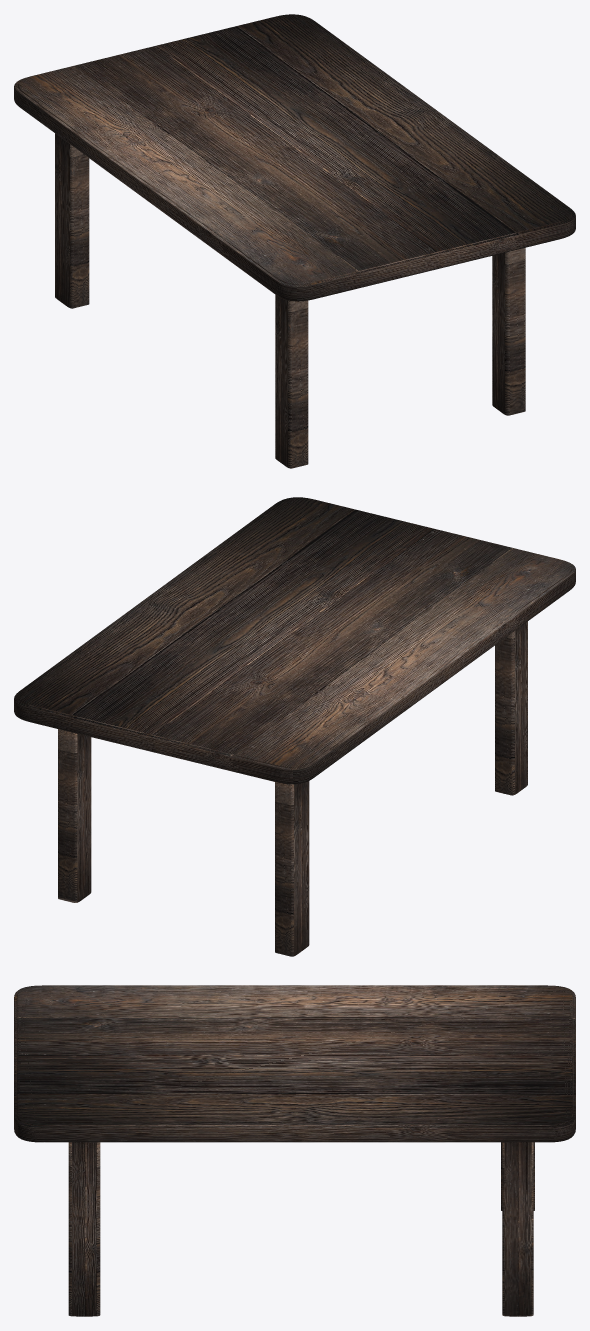
Rendered from smallTabletx.dae.
3 views of the same model, one above another, from view 1: azimuth 30°, elevation 25°; view 2: azimuth 150°, elevation 25°; view 3: azimuth 270°, elevation 25° (orthographic).
Visible parts, largest first — view 1: top, leg4, leg1, leg3; view 2: top, leg1, leg2, leg4; view 3: top, leg3, leg2.
Boxes of the visible parts, left/top/right/bottom form: top: left=14, top=14, right=575, bottom=301; leg4: left=275, top=295, right=308, bottom=468; leg1: left=55, top=133, right=89, bottom=308; leg3: left=492, top=247, right=525, bottom=415; top: left=14, top=497, right=575, bottom=784; leg1: left=275, top=781, right=309, bottom=956; leg2: left=58, top=729, right=91, bottom=902; leg4: left=495, top=621, right=527, bottom=795; top: left=14, top=985, right=575, bottom=1142; leg3: left=68, top=1142, right=100, bottom=1316; leg2: left=502, top=1142, right=533, bottom=1316.
Bounding box in the file's own units: 23.62 × 39.37 × 15.82.
Materials: 1 (1 with a texture image).
